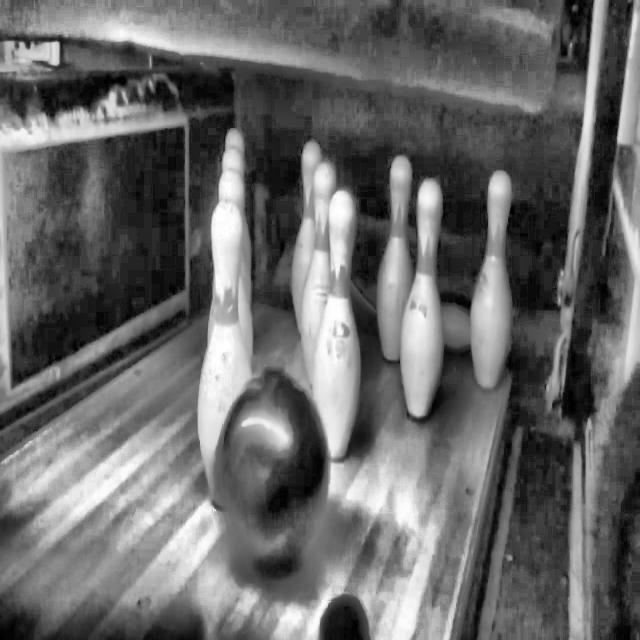bowling-ball: (222, 368, 328, 578)
bowling-pins: (198, 198, 251, 506), (313, 188, 362, 460), (401, 179, 444, 419), (472, 171, 512, 388), (302, 161, 336, 382), (377, 156, 412, 360), (292, 140, 321, 328), (222, 148, 244, 176)
